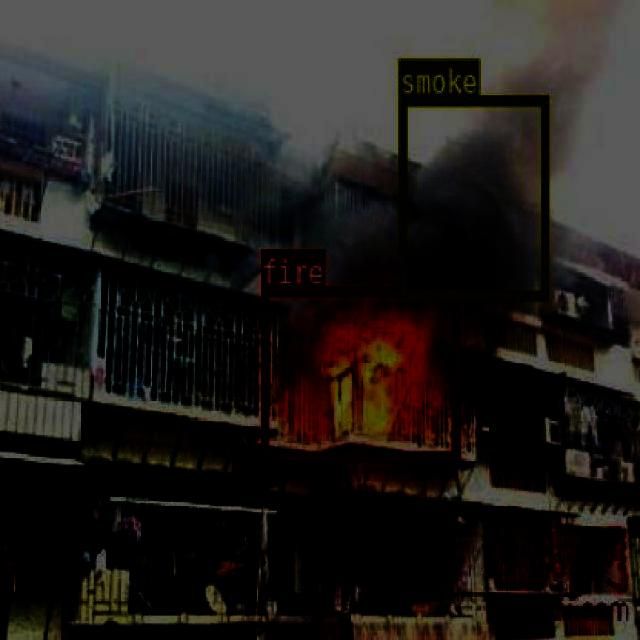fire: (259, 284, 458, 460)
smoke: (397, 95, 546, 298)
